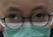with_mask: (1, 1, 53, 37)
